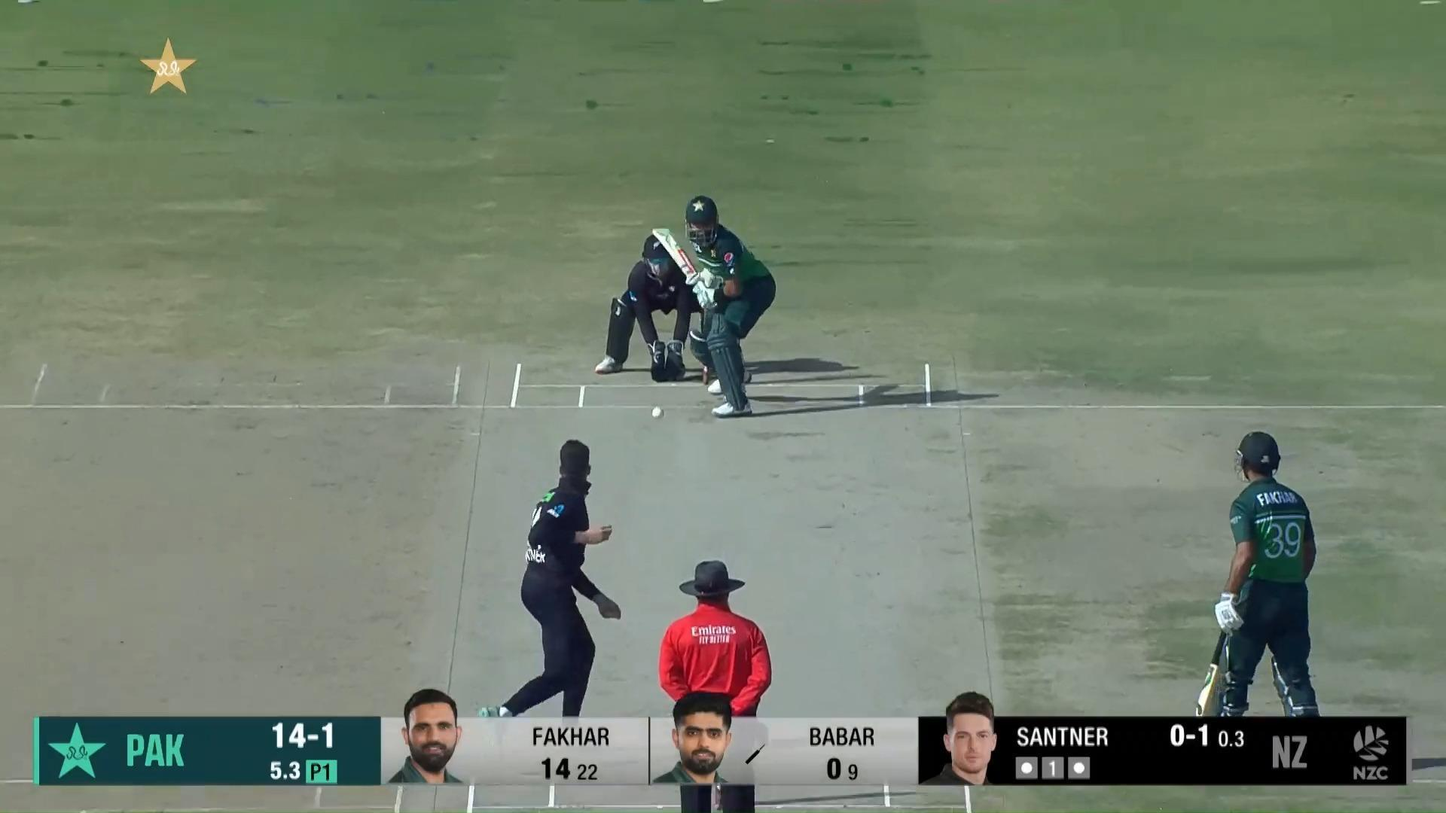BM 1: (652, 195, 777, 418)
BO: (477, 436, 625, 768)
